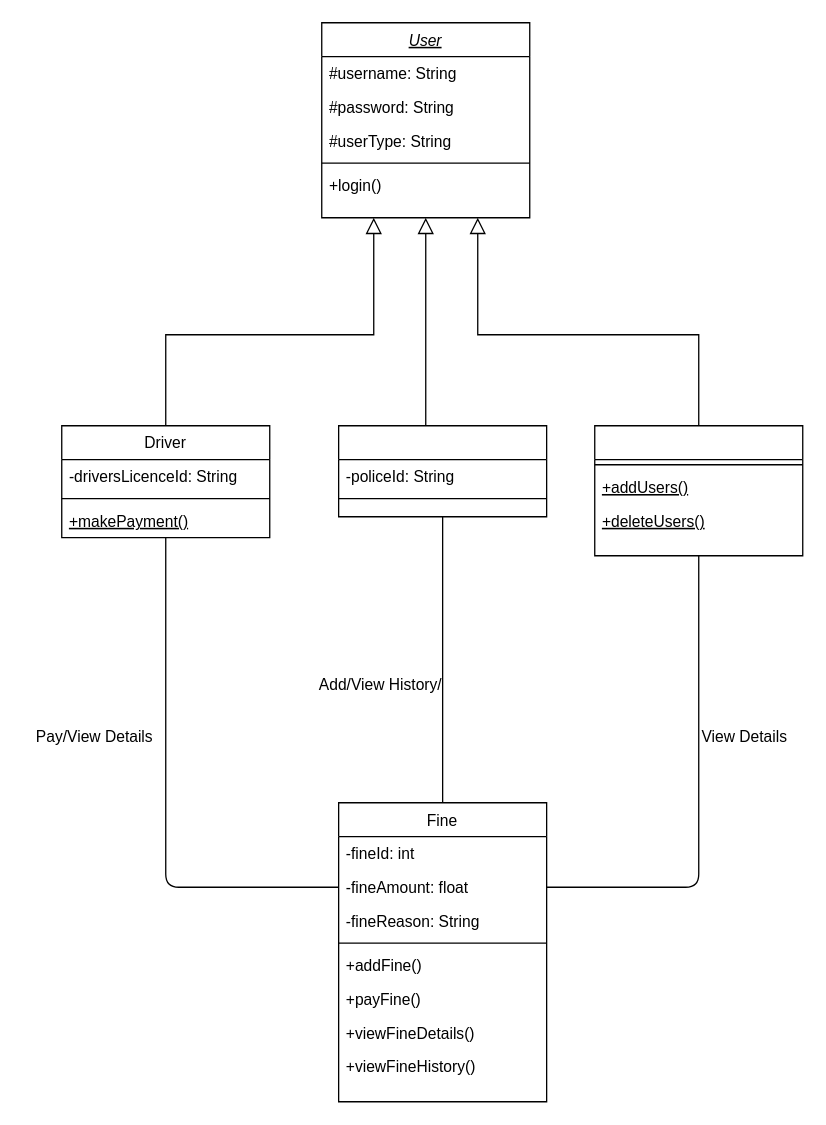
The diagram is 826 pixels wide and 1125 high, and some of its shapes have lost their labels. The box of each missing label's shape, as (x1, y1, x2, y2) in pixels:
admin: (593, 424, 803, 556)
Policeman: (337, 424, 547, 517)
